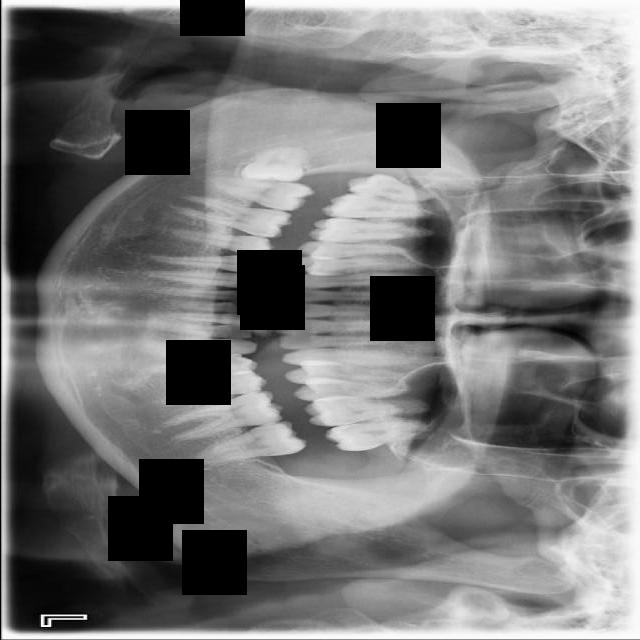3M ESPE Implant: (345, 169, 454, 208)
52: (251, 230, 262, 239)
73: (48, 612, 54, 620)
BioHorizons Implant: (324, 414, 446, 454)
Blue Sky Bio Implant: (192, 417, 307, 468)
Caries: (320, 192, 445, 222)
Implant: (203, 173, 314, 214)
Keystone Dental Implant: (238, 145, 307, 183)
